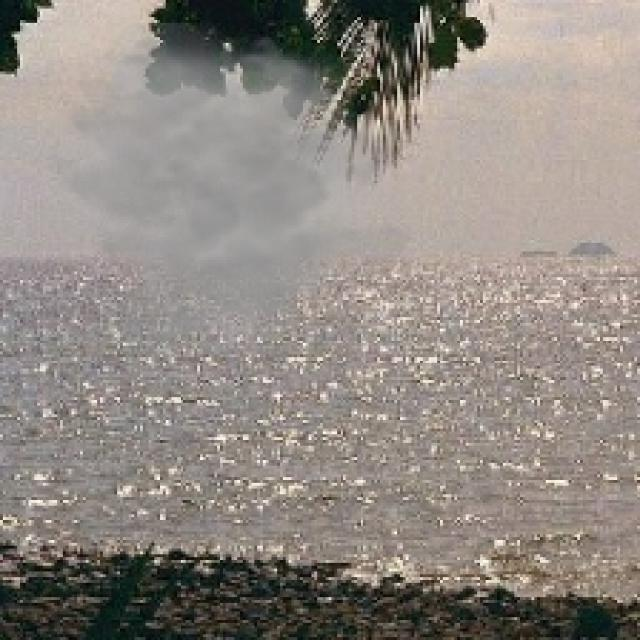Smoke: (39, 23, 414, 380)
